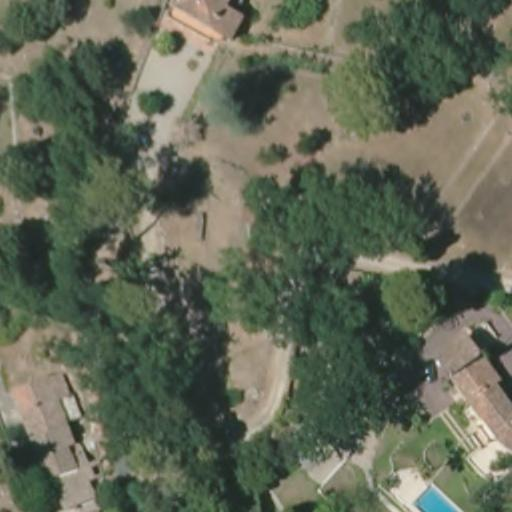pool: (407, 474, 460, 509)
